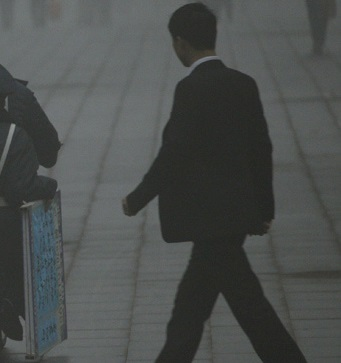person: (121, 2, 314, 363), (1, 64, 58, 354), (306, 1, 335, 57)
